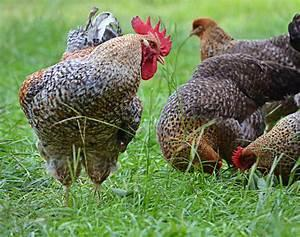hen: (17, 8, 172, 207), (156, 51, 299, 177)
